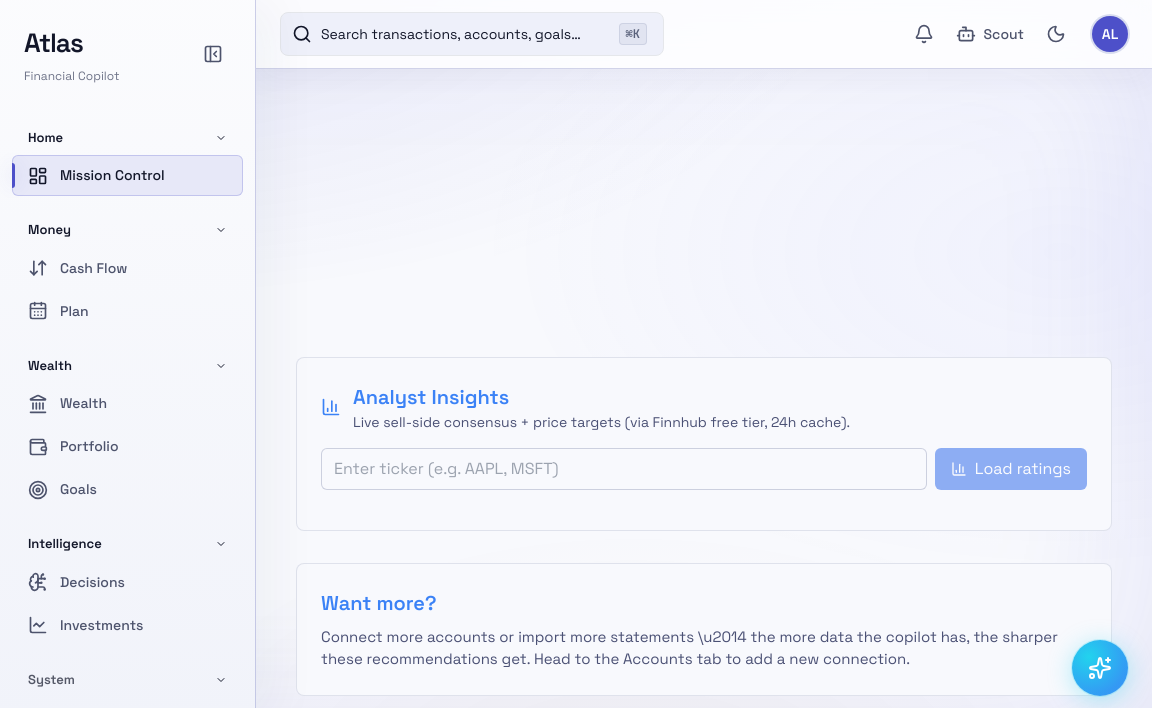
Scenario: Recommendations Page -- Analyst Insights section › renders the recommendation breakdown + price target on success
(page scrolled)
Type "AAPL" into the field with test id "analyst-ticker-input" at x=624, y=469, box x1=321 y1=448 x2=927 y2=490
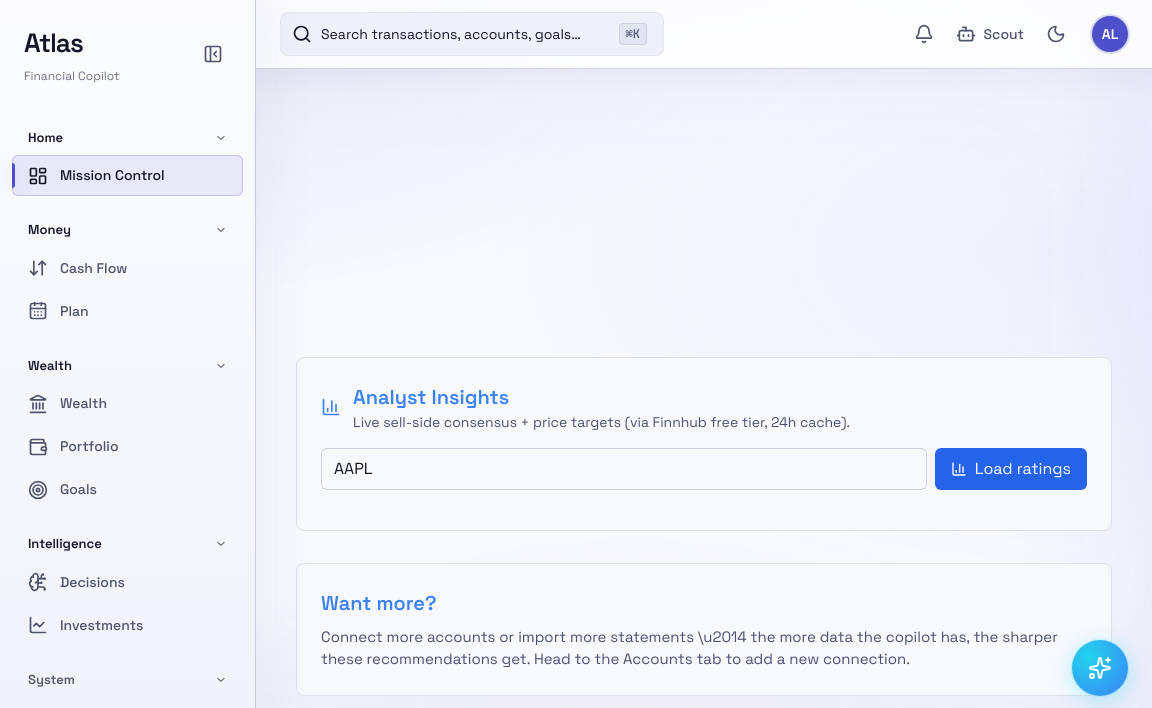
Click the button with test id "analyst-load-btn" at x=1011, y=469, box x1=935 y1=448 x2=1087 y2=490
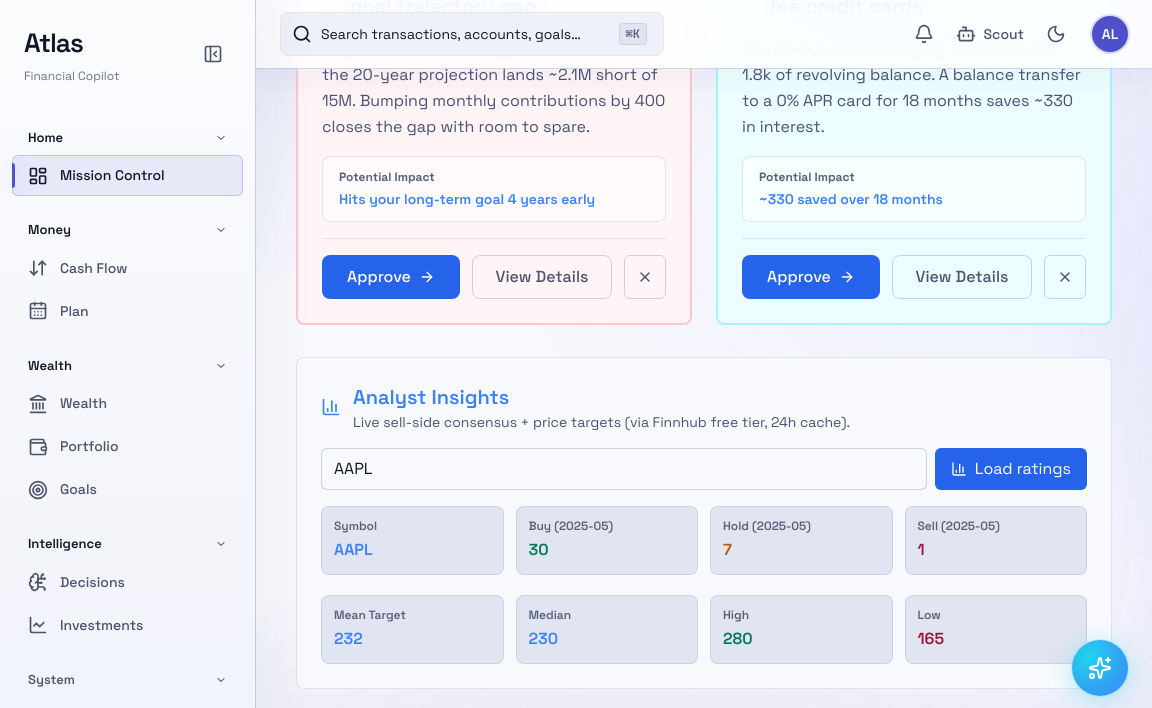
Result: the text with test id "analyst-total-buy" reads "30" at x1=528 y1=539 x2=549 y2=560
Result: the text with test id "analyst-total-hold" reads "7" at x1=723 y1=539 x2=732 y2=560
Result: the text with test id "analyst-total-sell" reads "1" at x1=918 y1=539 x2=925 y2=560
